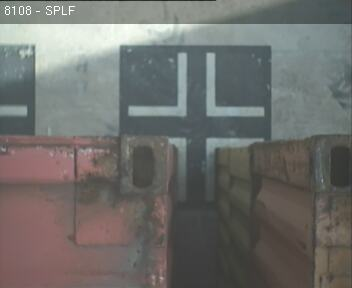groundmarker_1: (127, 52, 265, 117), (169, 137, 264, 201)
